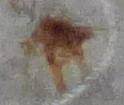Corrosion: (19, 13, 95, 95)
